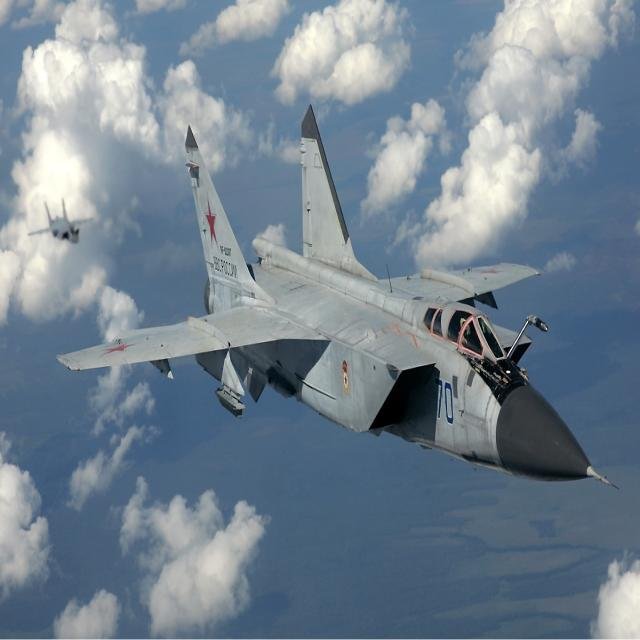MIL_Plane: (56, 102, 620, 492), (27, 197, 94, 244)
